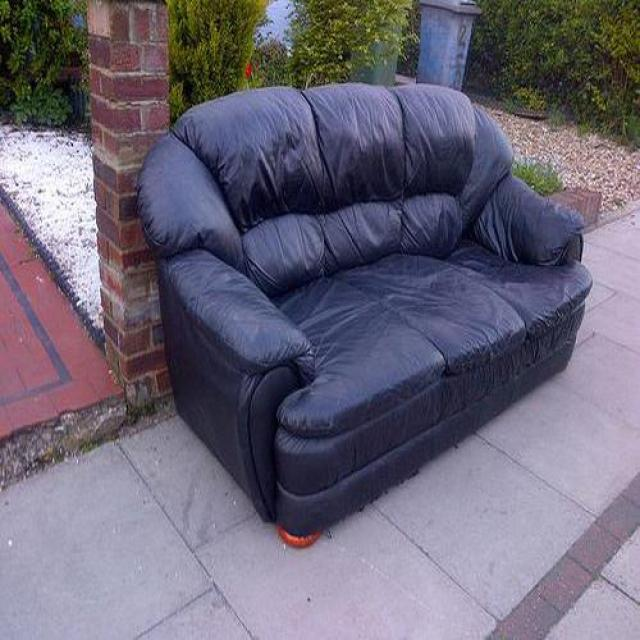sofa: (137, 83, 594, 549)
